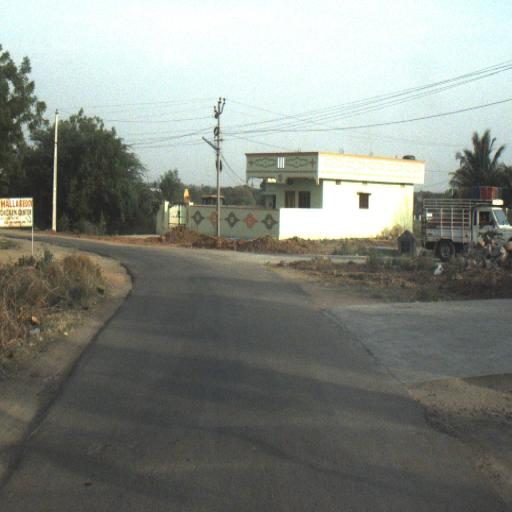street_light_0: (202, 136, 221, 159)
